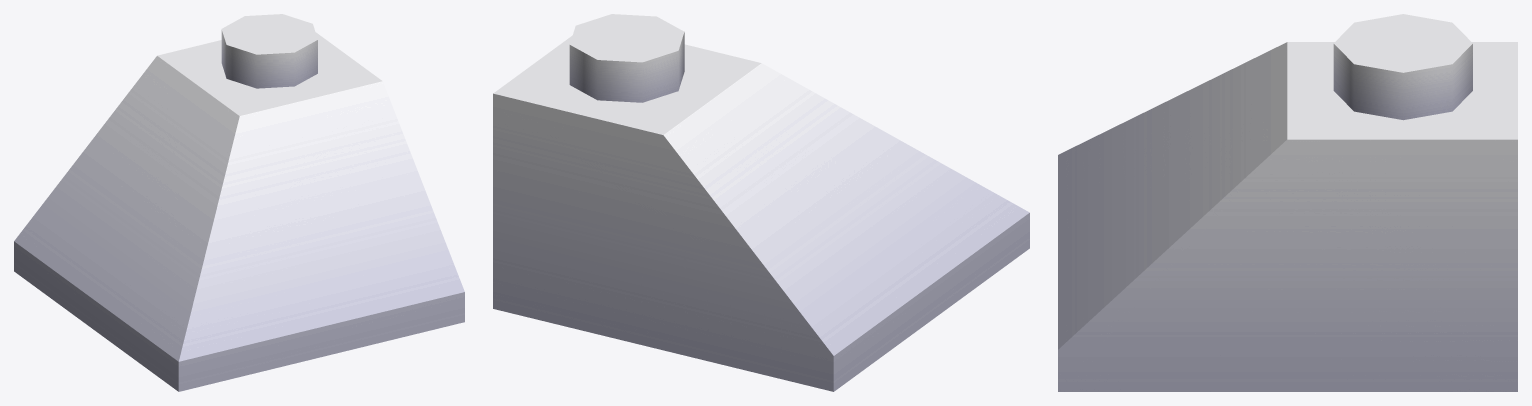
Rendered from brick-kit--round-lq-brick-slope-corner-outside-2x2.glb.
The picture shows the model from 3 angles, left to right: view 1: azimuth 30°, elevation 25°; view 2: azimuth 150°, elevation 25°; view 3: azimuth 270°, elevation 25°; orthographic projection. The views are drawn at different scales.
Visible parts, largest first — view 1: round-lq-brick-slope-corner-outside-2x2; view 2: round-lq-brick-slope-corner-outside-2x2; view 3: round-lq-brick-slope-corner-outside-2x2.
Boxes of the visible parts, x1=… form: round-lq-brick-slope-corner-outside-2x2: x1=14, y1=14, x2=464, y2=391; round-lq-brick-slope-corner-outside-2x2: x1=493, y1=14, x2=1029, y2=391; round-lq-brick-slope-corner-outside-2x2: x1=1058, y1=14, x2=1517, y2=391.
Bounding box in the file's own units: 0.159 × 0.114 × 0.1585.
Materials: 1 (1 with a texture image).
